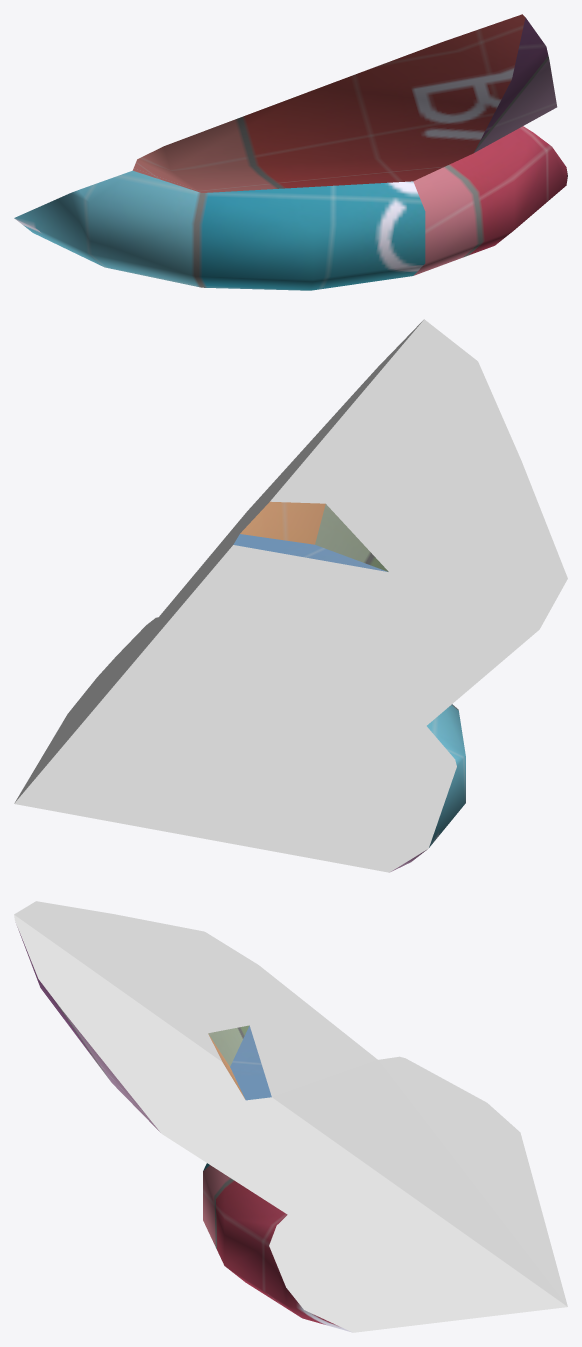
The model's file is RoundVase_SHAT_cell_023.fbx.
The picture shows the model from 3 angles, top to bottom: view 1: azimuth 30°, elevation 25°; view 2: azimuth 150°, elevation 25°; view 3: azimuth 270°, elevation 25°; orthographic projection. The views are drawn at different scales.
Visible parts, largest first — view 1: RoundVase_SHAT_cell_023; view 2: RoundVase_SHAT_cell_023; view 3: RoundVase_SHAT_cell_023.
Boxes of the visible parts, left/top/right/bottom form: RoundVase_SHAT_cell_023: left=14, top=14, right=567, bottom=290; RoundVase_SHAT_cell_023: left=14, top=319, right=567, bottom=872; RoundVase_SHAT_cell_023: left=14, top=901, right=567, bottom=1332.
Size of the model in its own units: 0.4788 by 0.3415 by 0.5289.
Materials: 2 (1 with a texture image).
